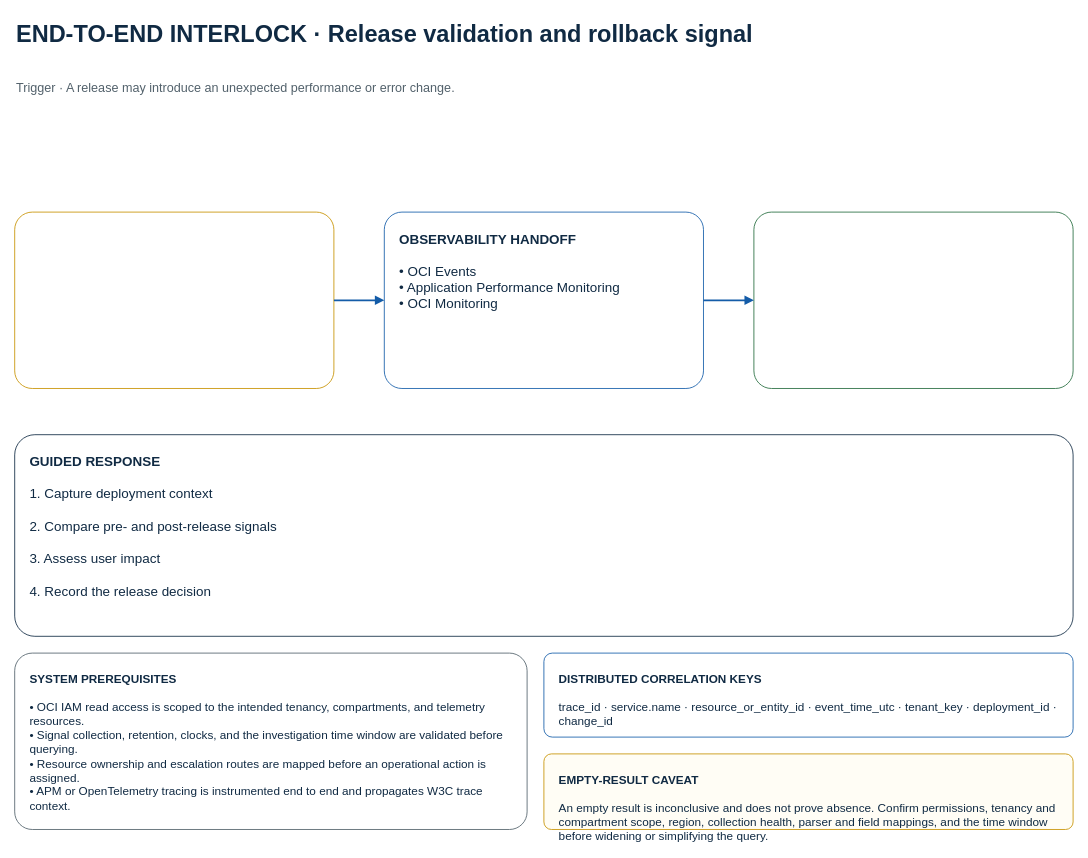
Some shapes in this 1088 by 858 pixel diagram are drawn without their labels. Here are the shapes that lost their labels. From the top down, the box of each, then its label:
(14, 211, 334, 388): SOURCE EVIDENCE • Deployment events • Application traces • Error metrics
(753, 211, 1073, 388): OPERATIONAL OUTCOME • Give teams evidence for continue, mitigate, or roll back.
